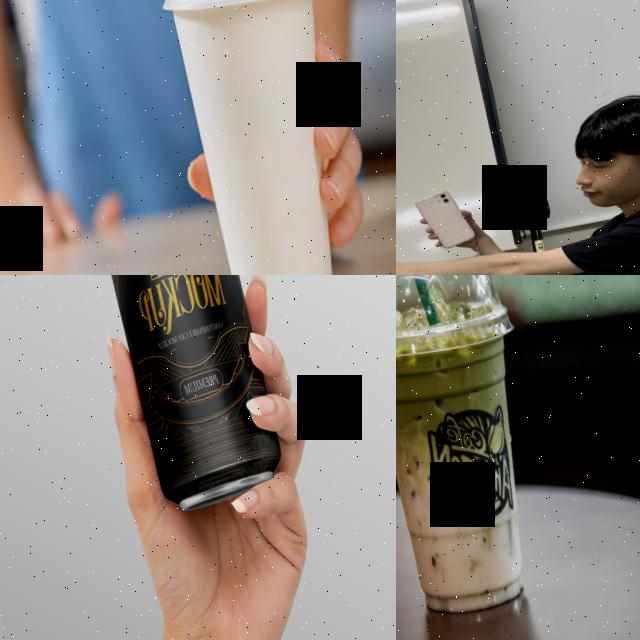can: (76, 275, 288, 521)
cup: (156, 0, 369, 275), (396, 275, 558, 626)
